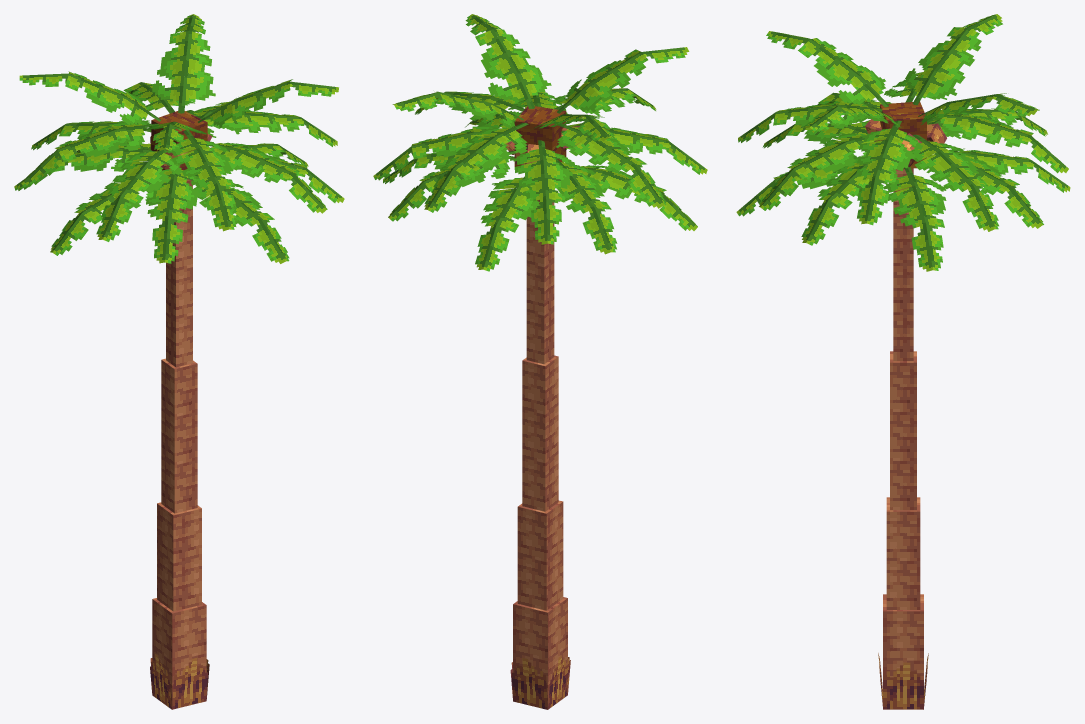
File: Palm3.gltf
The picture shows the model from 3 angles, left to right: view 1: azimuth 30°, elevation 25°; view 2: azimuth 150°, elevation 25°; view 3: azimuth 270°, elevation 25°; orthographic projection. The views are drawn at different scales.
Parts seen in each view (by area): view 1: cube; view 2: cube; view 3: cube.
Part boxes in pixels (<box>): cube: <box>14,14,344,709</box>; cube: <box>373,14,707,709</box>; cube: <box>736,14,1070,709</box>.
Size of the model in its own units: 6.16 by 12.91 by 6.16.
